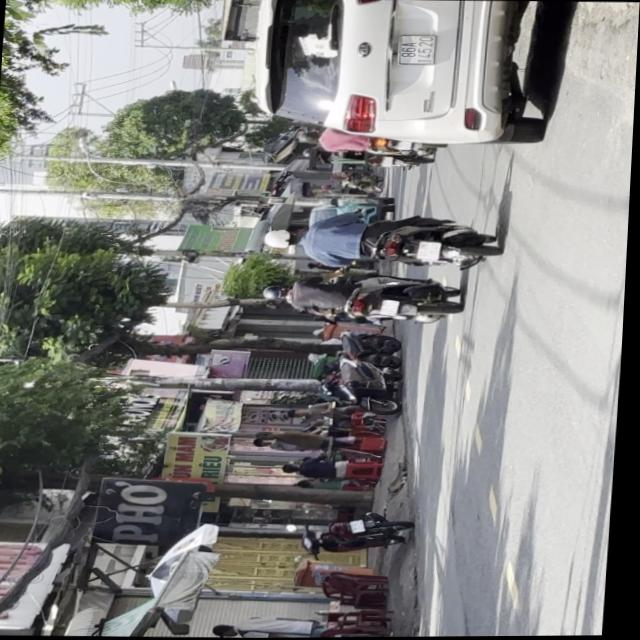helmet: (264, 228, 303, 249), (263, 285, 292, 301)
licenseplate: (261, 210, 505, 273), (261, 271, 468, 327)
nohelmet: (419, 241, 442, 259), (383, 300, 402, 316)
